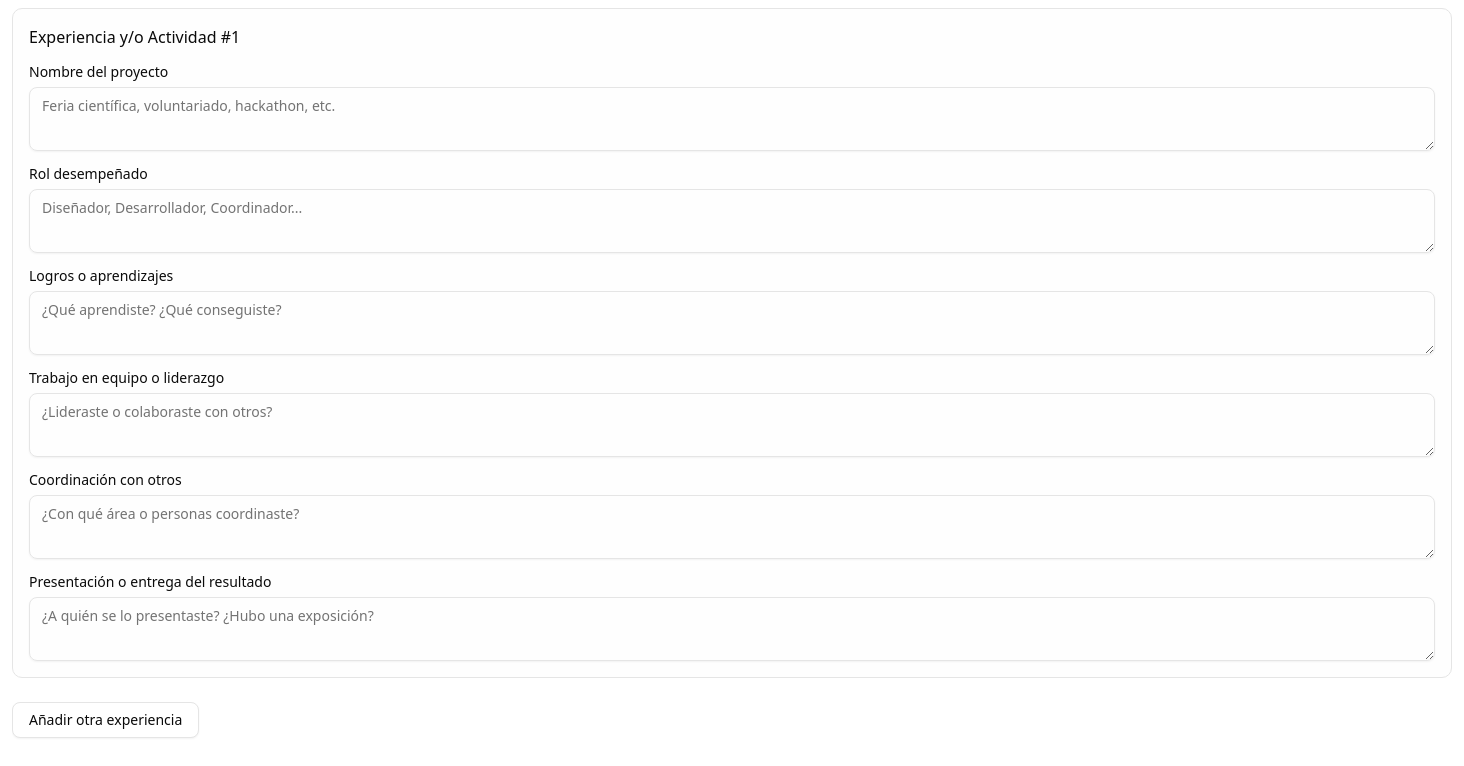
ExperienceSection › desactiva el botón de agregar al llegar a 4 experiencias
The width and height of the screenshot is (1464, 766).
Click the button "Añadir otra experiencia" at coordinates (106, 720), box x1=12 y1=702 x2=199 y2=738
(page scrolled)
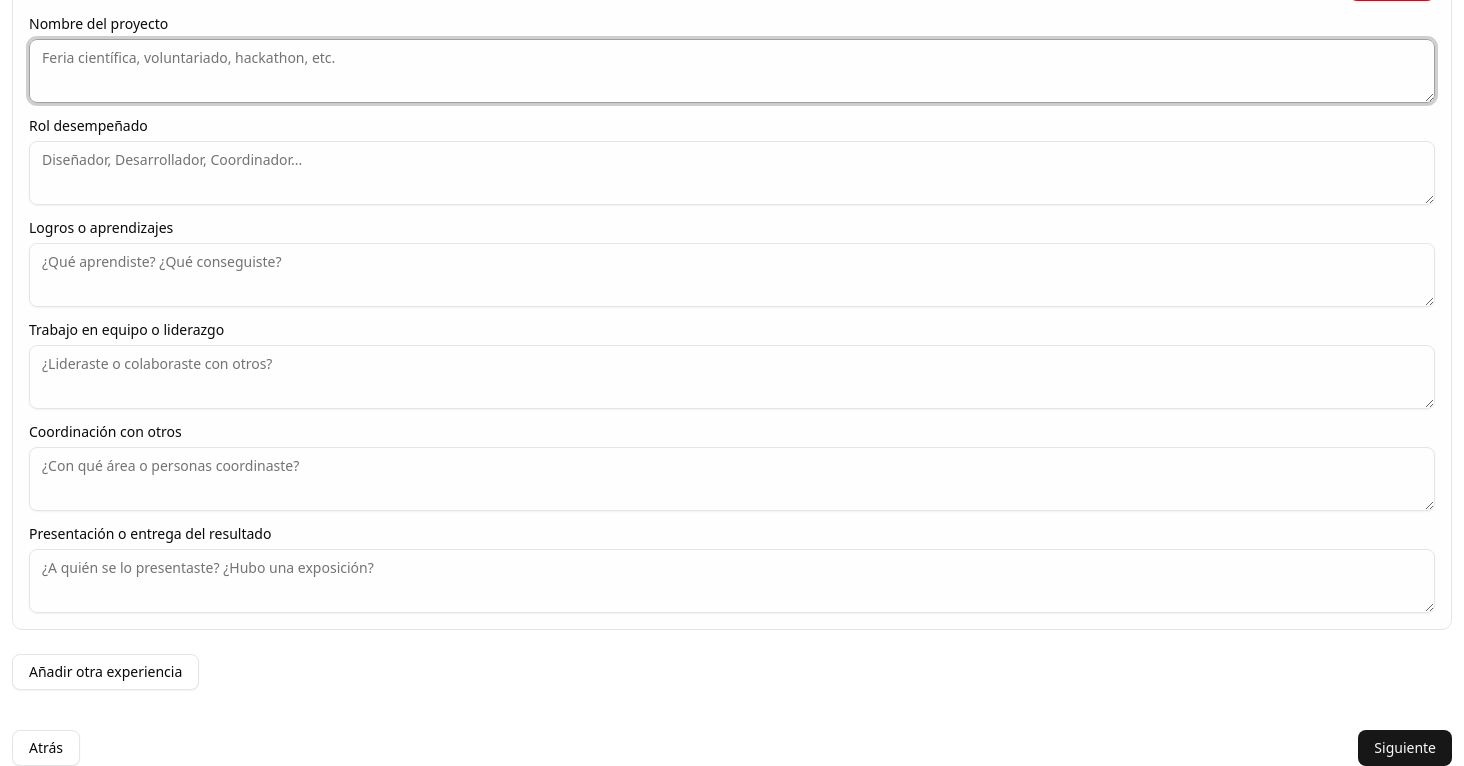
Click the button "Añadir otra experiencia" at coordinates (106, 672), box x1=12 y1=654 x2=199 y2=690
(page scrolled)
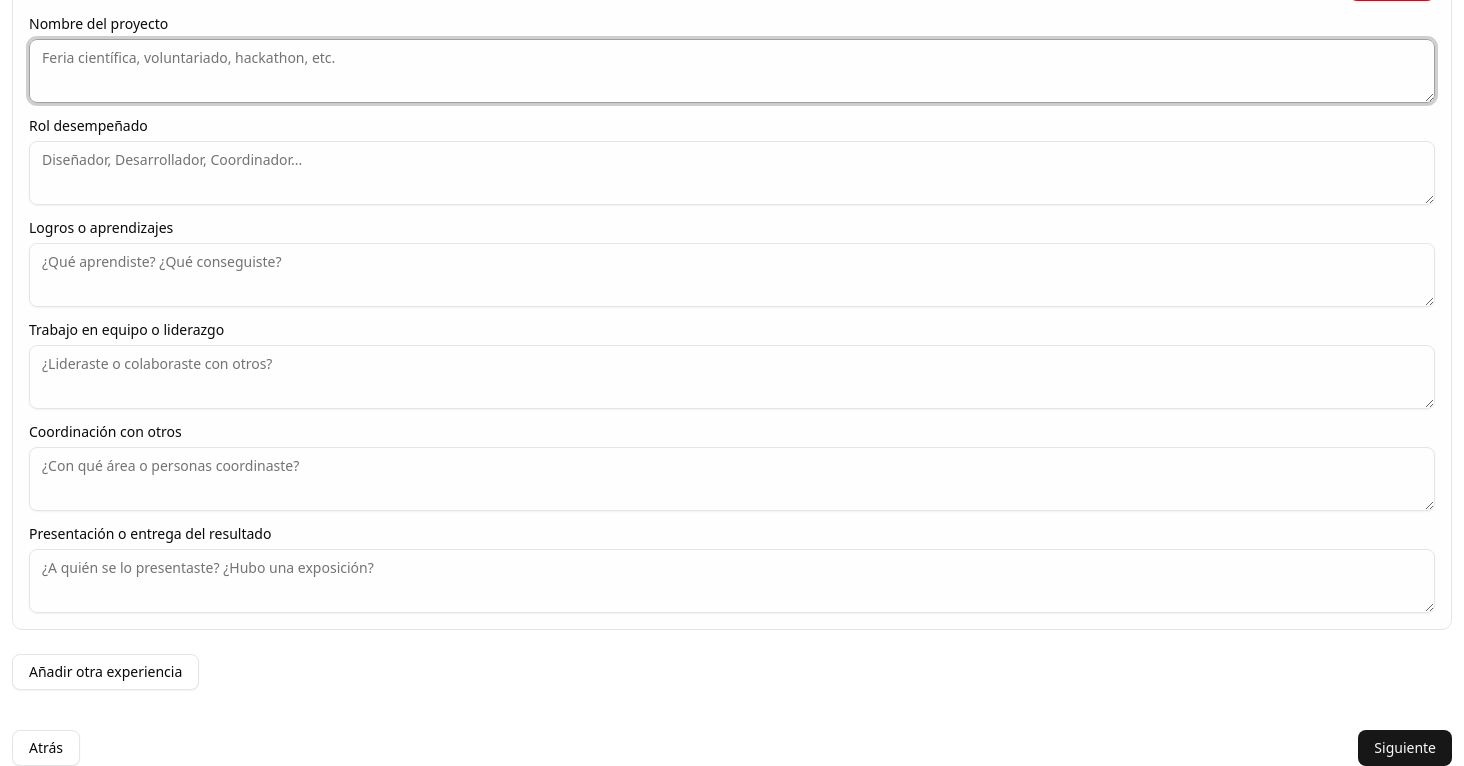
Click the button "Añadir otra experiencia" at coordinates (106, 672), box x1=12 y1=654 x2=199 y2=690
(page scrolled)
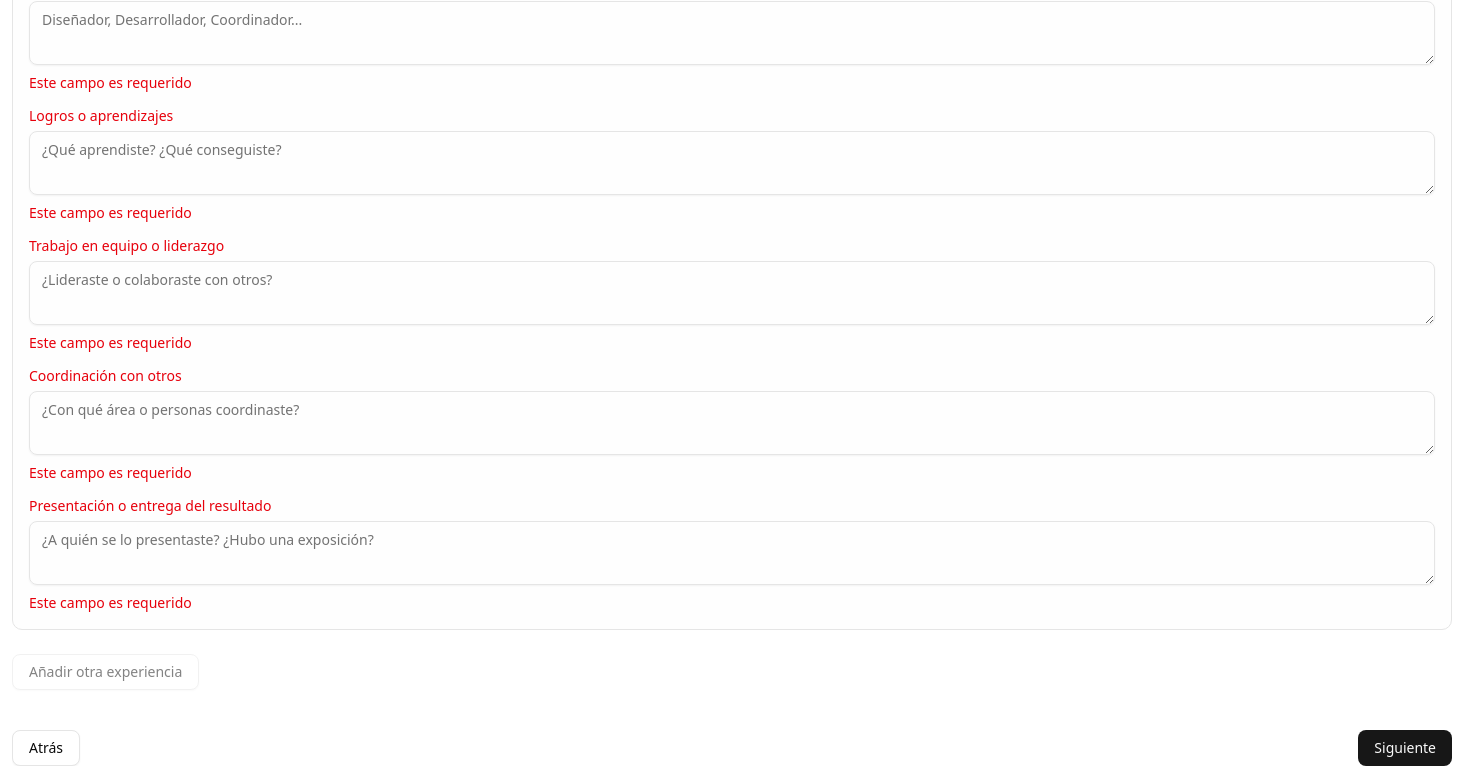
Check: the button "Añadir otra experiencia" is disabled, box x1=12 y1=654 x2=199 y2=690
